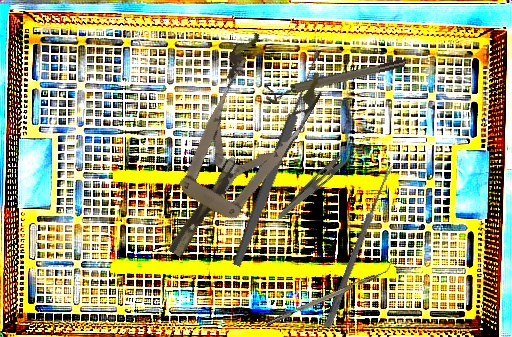Chopper: (262, 261, 395, 327)
Dressing Forceps: (275, 132, 368, 230)
Fixation Ring: (263, 56, 408, 105)
Speculum: (130, 27, 332, 278)
Surgical Spoon: (230, 49, 325, 268), (324, 163, 394, 329)
